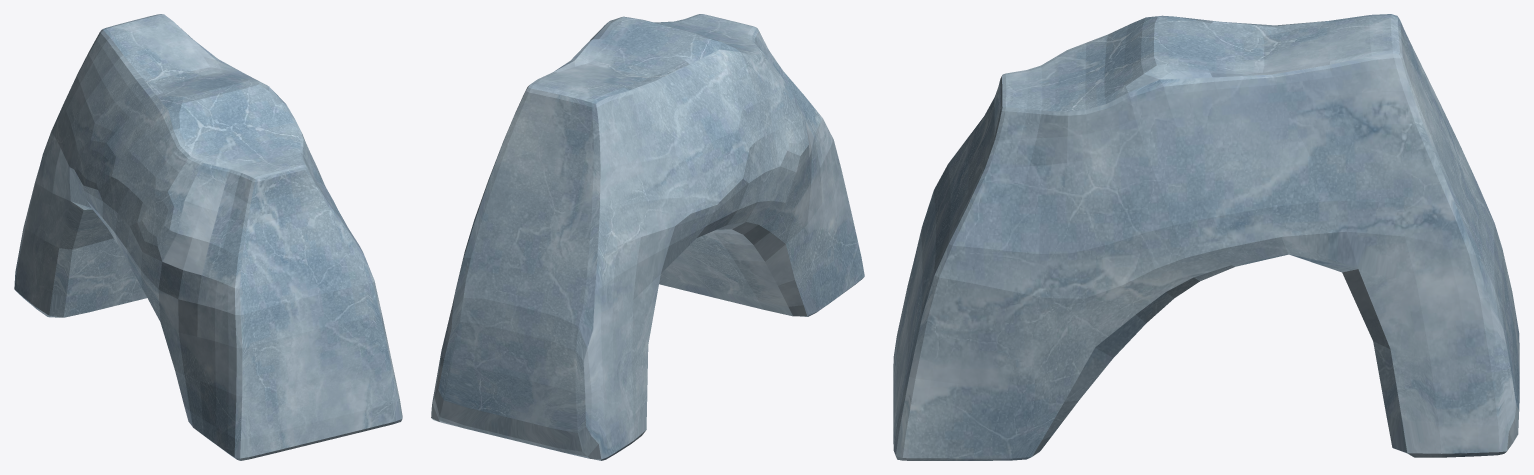
File: Iceberg2.fbx
3 views of the same model, side by side, from view 1: azimuth 30°, elevation 25°; view 2: azimuth 150°, elevation 25°; view 3: azimuth 270°, elevation 25° (orthographic). The views are drawn at different scales.
Parts seen in each view (by area): view 1: ICEBERG 2; view 2: ICEBERG 2; view 3: ICEBERG 2.
Part boxes in pixels (left/top/right/bottom): ICEBERG 2: left=14, top=14, right=402, bottom=460; ICEBERG 2: left=431, top=14, right=864, bottom=460; ICEBERG 2: left=893, top=14, right=1519, bottom=460.
Bounding box in the file's own units: 154 × 226 × 340.
Materials: 1 (1 with a texture image).
